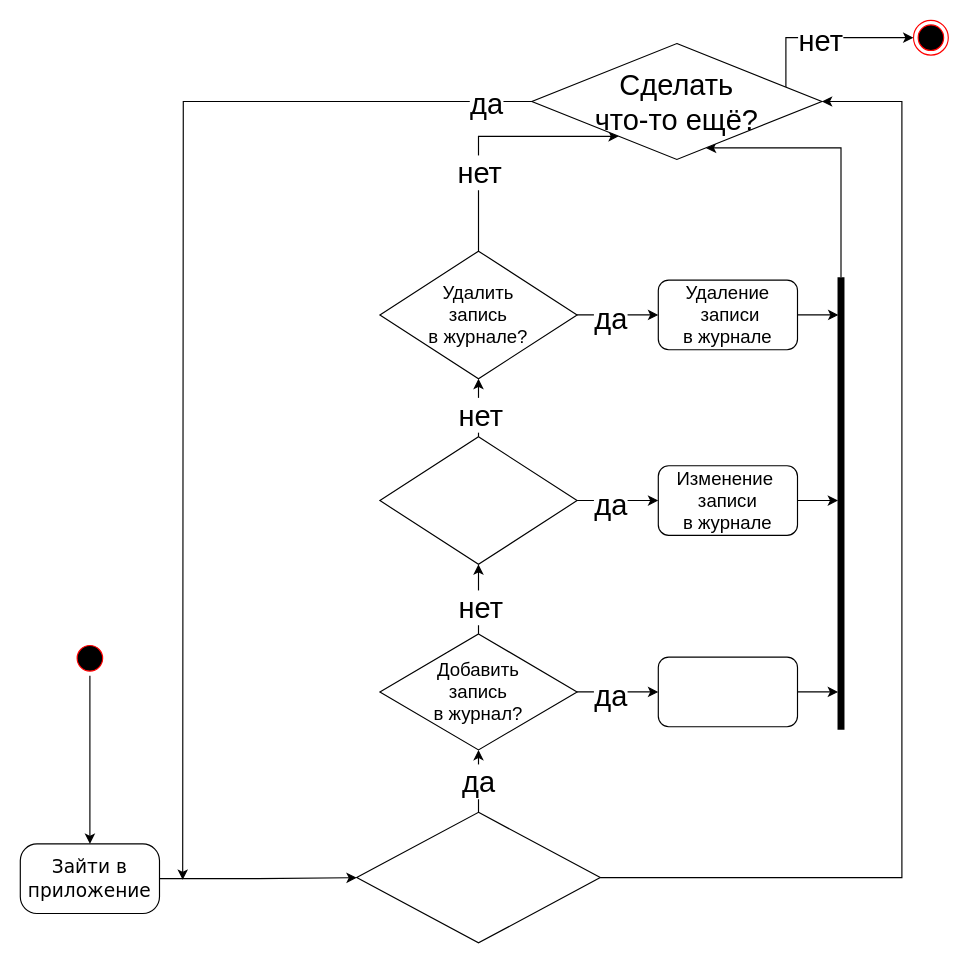
This 969x964 diagram has some shape labels left out. Here are the shapes that lost their labels. From the top down, the centre of each, then its label:
(478,500): Изменить запись в журнале?
(727,691): Добавление записи в журнал
(478,877): Работать с журналом о передвижении ключей?
